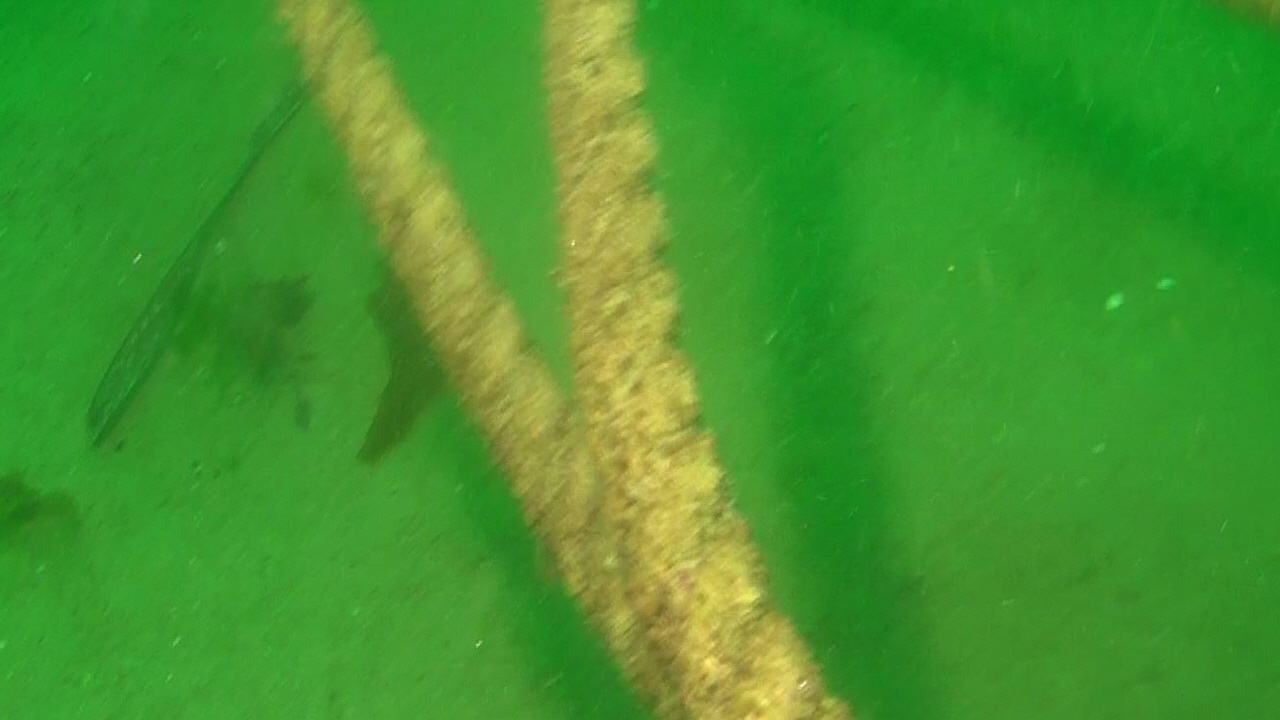bundle of ropes: (274, 0, 848, 720)
